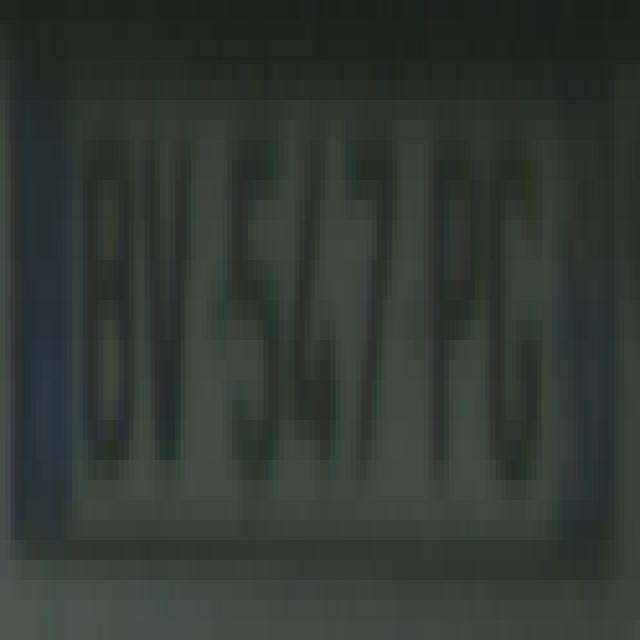Autre: (12, 74, 619, 586)
